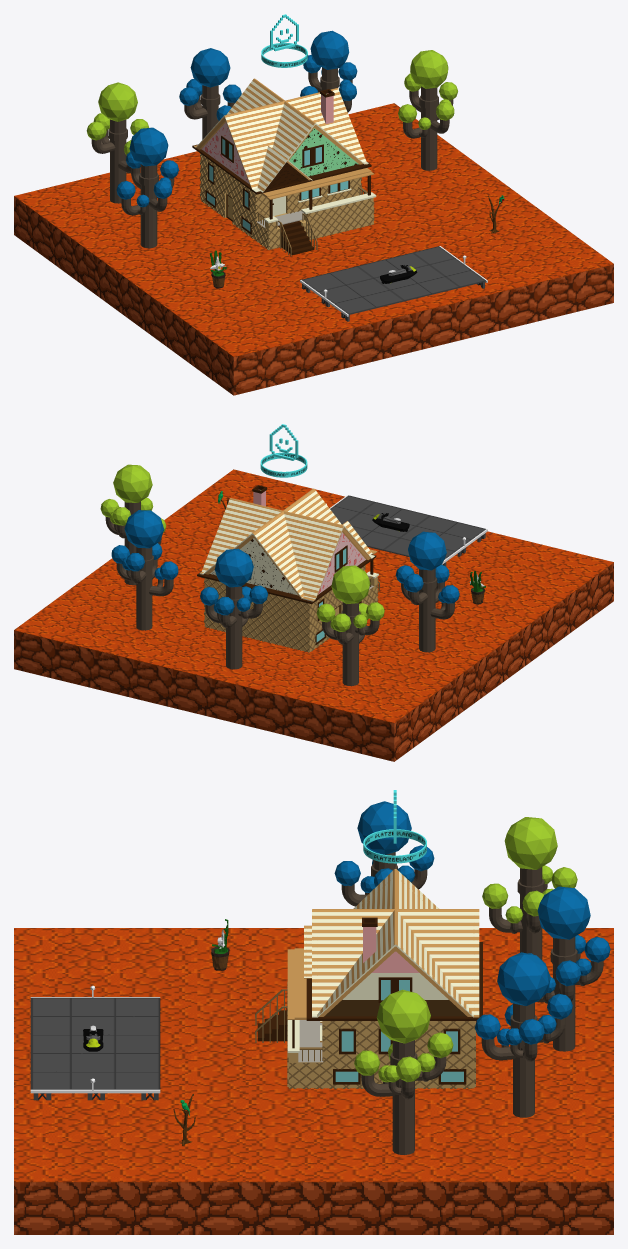
3 views of the same model, one above another, from view 1: azimuth 30°, elevation 25°; view 2: azimuth 150°, elevation 25°; view 3: azimuth 270°, elevation 25° (orthographic). The views are drawn at different scales.
Visible parts, largest first — view 1: Cube.001, Cube.1102, TYPE_PREMIUM; view 2: Cube.001, Cube.1102, TYPE_PREMIUM; view 3: Cube.001, Cube.1102, TYPE_PREMIUM.
Boxes of the visible parts, x1,y1,x2,y2 form: Cube.001: (14, 30, 613, 395); Cube.1102: (192, 78, 376, 256); TYPE_PREMIUM: (261, 14, 307, 67); Cube.001: (14, 464, 613, 761); Cube.1102: (197, 485, 379, 652); TYPE_PREMIUM: (260, 424, 307, 477); Cube.001: (14, 801, 613, 1234); Cube.1102: (255, 869, 482, 1088); TYPE_PREMIUM: (363, 790, 426, 863).
Bounding box in the file's own units: 4000 × 2410 × 4000.
37 materials, 6 textured.
